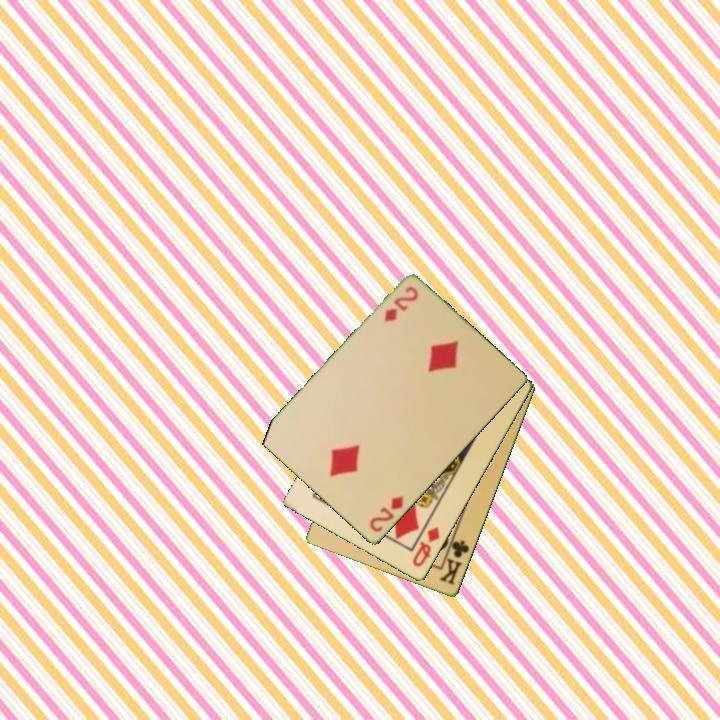2d: (366, 493, 407, 536), (381, 283, 422, 325)
Kc: (436, 532, 472, 588)
Qd: (409, 523, 443, 570)
